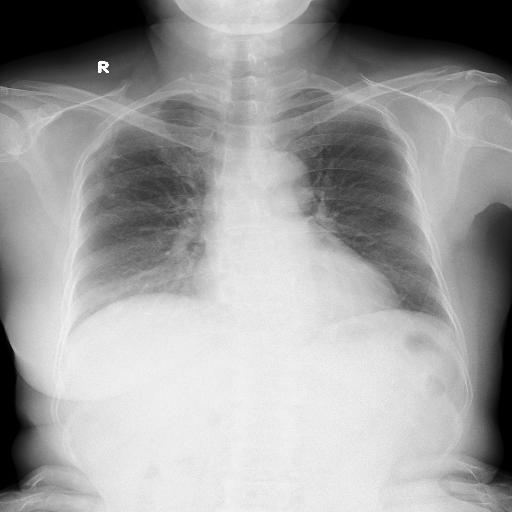Aortic enlargement: (238, 121, 287, 178)
Cardiomegaly: (88, 230, 298, 286)
Pleural thickening: (73, 126, 95, 148)
Pulmonary fibrosis: (96, 130, 112, 178), (98, 162, 110, 170), (98, 190, 112, 196), (104, 152, 116, 158)
